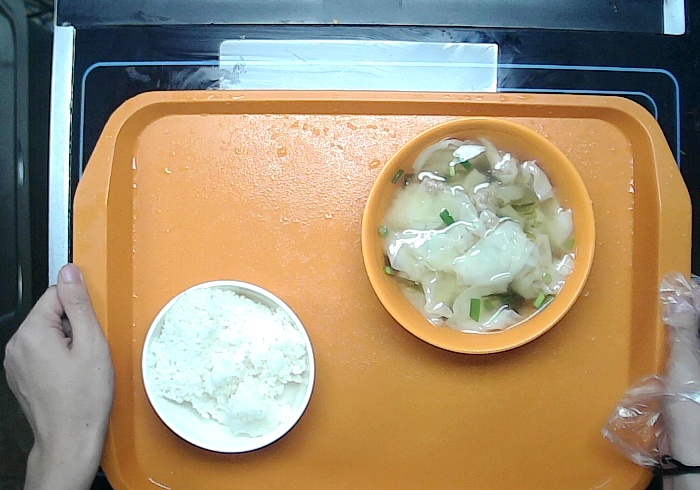NLDX-Fan_Wan: (142, 280, 317, 453)
NLDX-Hun_Tun_Wan: (361, 117, 596, 356)
